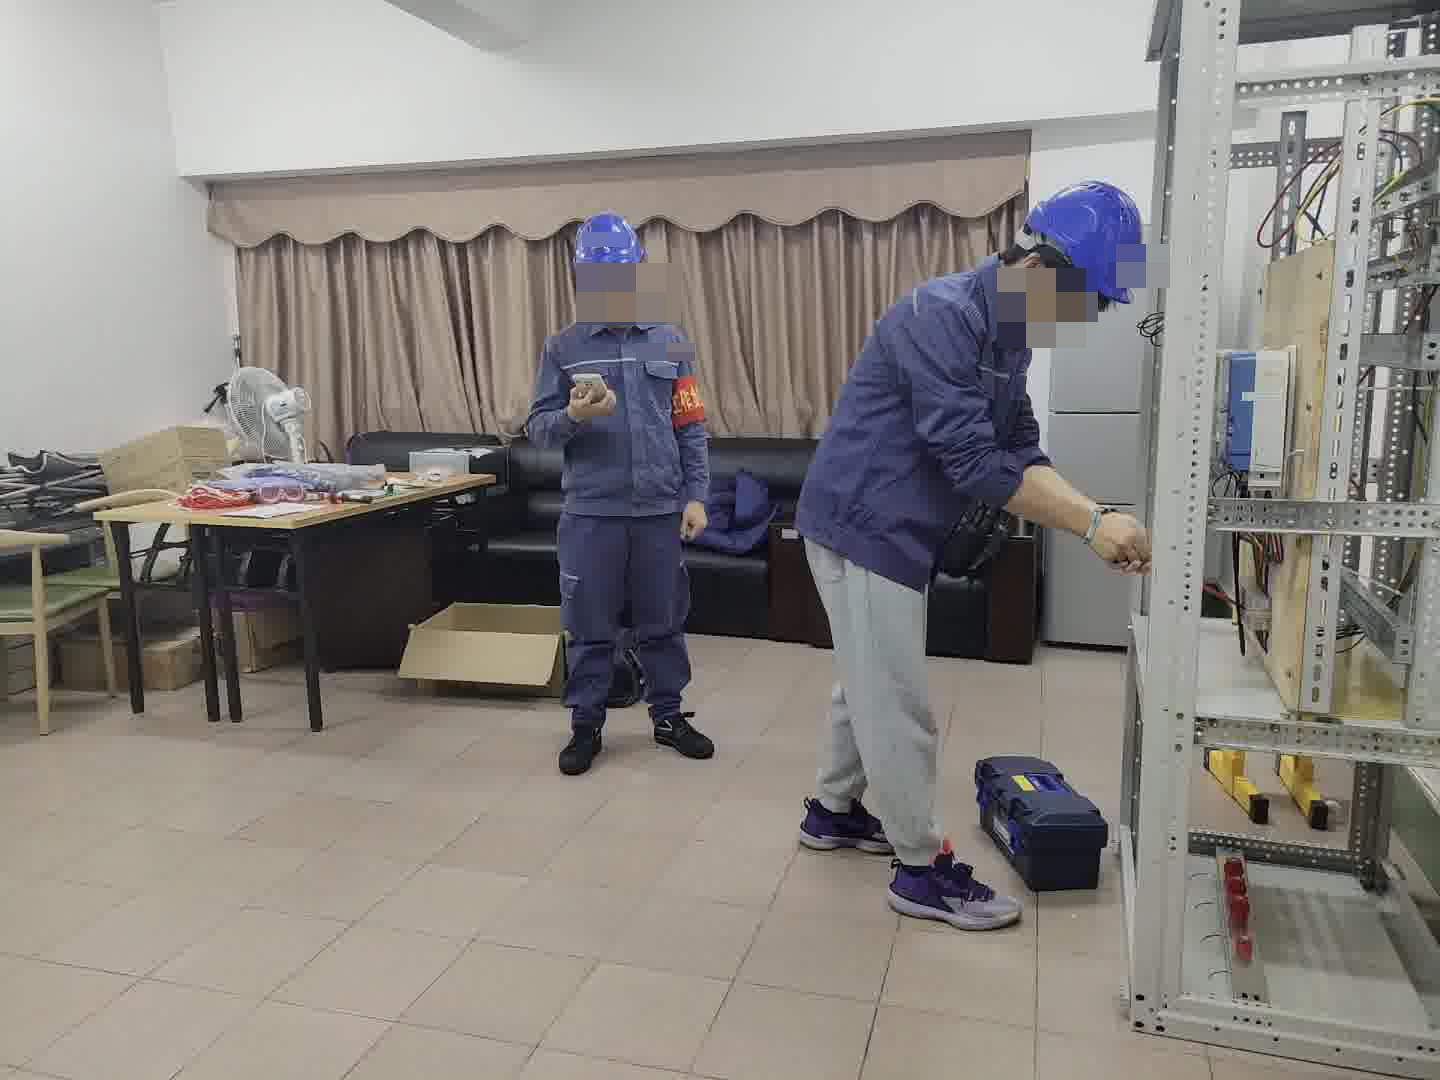badge: (668, 373, 708, 433)
downcloth: (798, 542, 959, 837)
downsuit: (554, 534, 698, 724)
halt: (1017, 180, 1144, 338), (568, 210, 650, 318)
hand: (1084, 504, 1150, 571), (563, 382, 620, 422), (684, 505, 708, 537)
noear: (1010, 249, 1055, 293)
person: (790, 176, 1150, 864), (515, 207, 718, 768)
upsuit: (802, 255, 1043, 528), (519, 308, 713, 514)
wrongtop: (945, 451, 1090, 530)
